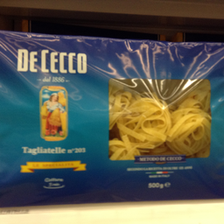pasta: (1, 31, 224, 206)
